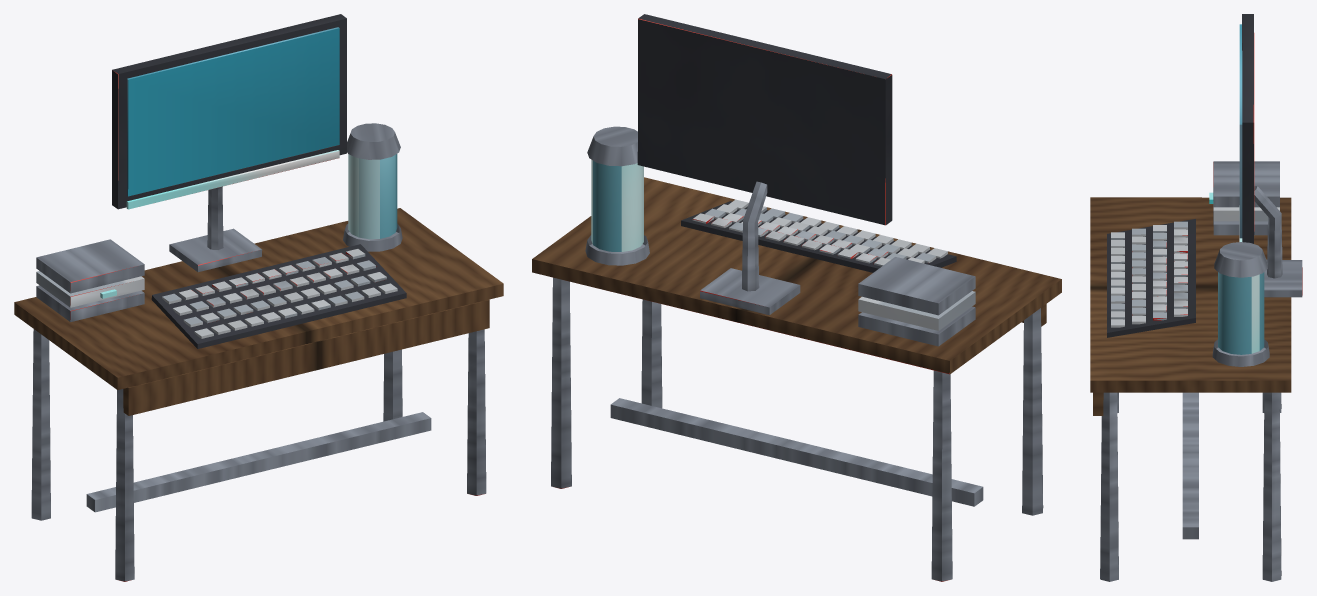
Rendered from Env_Prop_ResearchTerminal_LOD2.fbx.
3 views of the same model, side by side, from view 1: azimuth 30°, elevation 25°; view 2: azimuth 150°, elevation 25°; view 3: azimuth 270°, elevation 25° (orthographic). The views are drawn at different scales.
Parts seen in each view (by area): view 1: Env_Prop_ResearchTerminal_LOD2; view 2: Env_Prop_ResearchTerminal_LOD2; view 3: Env_Prop_ResearchTerminal_LOD2.
Boxes of the visible parts, x1,y1,x2,y2 form: Env_Prop_ResearchTerminal_LOD2: (14, 14, 503, 581); Env_Prop_ResearchTerminal_LOD2: (532, 14, 1061, 581); Env_Prop_ResearchTerminal_LOD2: (1090, 14, 1302, 581).
Bounding box in the file's own units: 155 × 75.84 × 168.
